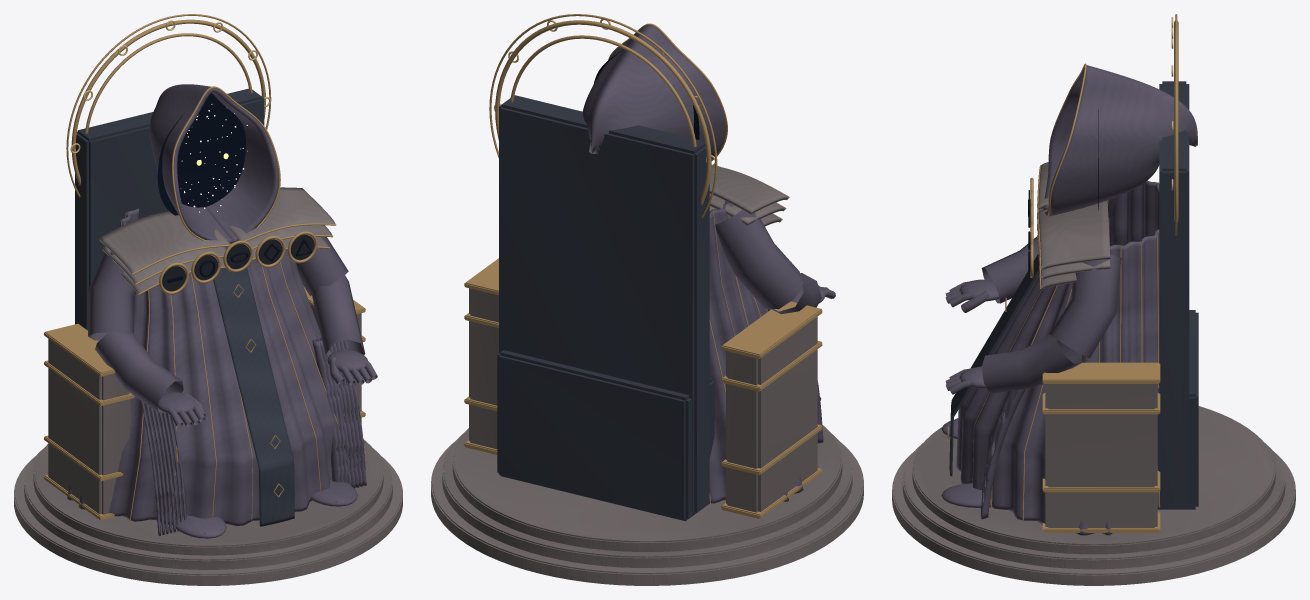
The model's file is guardian-v01.glb.
The picture shows the model from 3 angles, left to right: view 1: azimuth 30°, elevation 25°; view 2: azimuth 150°, elevation 25°; view 3: azimuth 270°, elevation 25°; orthographic projection. The views are drawn at different scales.
Visible parts, largest first — view 1: Chronicle violet basalt, Chronicle sandstone strata, Chronicle dark basalt, Chronicle aged bronze, Chronicle recessed star void; view 2: Chronicle dark basalt, Chronicle sandstone strata, Chronicle violet basalt, Chronicle aged bronze; view 3: Chronicle sandstone strata, Chronicle violet basalt, Chronicle dark basalt, Chronicle aged bronze.
Boxes of the visible parts, x1,y1,x2,y2 form: Chronicle violet basalt: (67, 84, 377, 538); Chronicle sandstone strata: (14, 187, 402, 585); Chronicle dark basalt: (75, 88, 352, 533); Chronicle aged bronze: (24, 14, 392, 560); Chronicle recessed star void: (157, 93, 245, 215); Chronicle dark basalt: (497, 95, 714, 521); Chronicle sandstone strata: (431, 166, 863, 585); Chronicle violet basalt: (582, 25, 835, 503); Chronicle aged bronze: (443, 14, 851, 557); Chronicle sandstone strata: (892, 162, 1295, 585); Chronicle violet basalt: (941, 65, 1197, 535); Chronicle dark basalt: (948, 81, 1198, 509); Chronicle aged bronze: (903, 14, 1284, 556).
Bounding box in the file's own units: 10.8 × 14.04 × 10.8.
